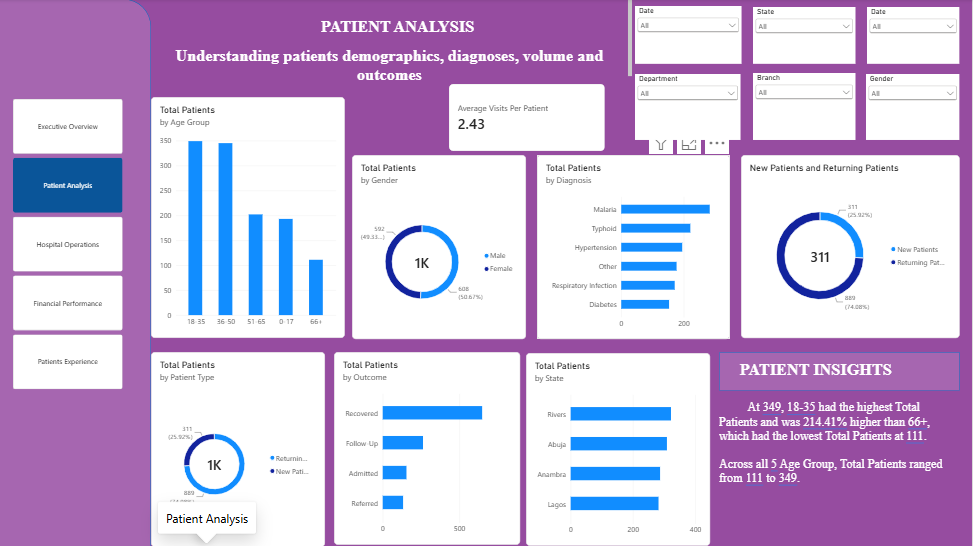

What the dashboard file says about the page in this screenshot:
{"tool":"powerbi","page":{"name":"Patient Analysis","canvas":[1920,1080],"ordinal":1},"visuals":[{"type":"textbox","box":[301.5,0,948,167.5],"z":0},{"type":"clusteredColumnChart","fields":{"Category":["Patient_Visits.Age Group"],"Y":["Date_Table.Total Patients"]},"box":[301.4,194.1,381.9,474.8],"z":1000},{"type":"donutChart","fields":{"Category":["Patient_Visits.Gender"],"Y":["Date_Table.Total Patients"]},"box":[697.8,307.6,342.7,363.4],"z":2000},{"type":"clusteredBarChart","fields":{"Category":["Patient_Visits.Diagnosis"],"Y":["Date_Table.Total Patients"]},"box":[1063.2,307.6,379.9,363.4],"z":3000},{"type":"clusteredBarChart","fields":{"Category":["Patient_Visits.State"],"Y":["Date_Table.Total Patients"]},"box":[1040.5,697.8,362.6,380.4],"z":4000},{"type":"donutChart","fields":{"Y":["Date_Table.New Patients","Date_Table.Returning Patients"]},"box":[1463.7,307.6,431.5,361.3],"z":5000},{"type":"donutChart","fields":{"Category":["Patient_Visits.Patient Type"],"Y":["Date_Table.Total Patients"]},"box":[301.4,695.7,342.7,384],"z":6000},{"type":"cardVisual","fields":{"Data":["Date_Table.Average Visits Per Patient"]},"box":[889.8,167.2,307.6,132.1],"z":7000},{"type":"clusteredBarChart","fields":{"Category":["Patient_Visits.Outcome"],"Y":["Date_Table.Total Patients"]},"box":[662.7,695.7,366.6,380.4],"z":8000},{"type":"slicer","fields":{"Values":["Date_Table.Date"]},"box":[1712,16,182,112],"z":9000},{"type":"slicer","fields":{"Values":["Patient_Visits.State"]},"box":[1488,16,202,112],"z":10000},{"type":"slicer","fields":{"Values":["Date_Table.Date"]},"box":[1256,14,210,114],"z":11000},{"type":"slicer","fields":{"Values":["Patient_Visits.Branch"]},"box":[1488,146,202,132],"z":12000},{"type":"slicer","fields":{"Values":["Patient_Visits.Department"]},"box":[1256,148,208,130],"z":13000},{"type":"slicer","fields":{"Values":["Patient_Visits.Gender"]},"box":[1710,148,184,130],"z":14000},{"type":"pageNavigator","box":[13.8,368.5,258.2,599.1],"z":15000},{"type":"shape","box":[0,0,301.5,1080],"z":16000},{"type":"pageNavigator","box":[28.9,196.1,216.8,576],"z":17000},{"type":"shape","box":[1420.4,695.7,474.8,76.4],"z":18000},{"type":"textbox","box":[1420.4,772.1,474.8,68.1],"z":19000},{"type":"textbox","box":[1443.1,712.3,423.2,45.4],"z":20000},{"type":"textbox","box":[1420,772,476,262],"z":21000}]}

Visuals, with their boxes on the page's 1920x1080 design canvas (x1, y1, x2, y2). These are canvas units, not pixel positions in the 973x546 screenshot, which may show the page scaled, cropped or inside an application window:
textbox: [302, 0, 1250, 168]
clusteredColumnChart - Patient_Visits.Age Group x Date_Table.Total Patients: [301, 194, 683, 669]
donutChart - Patient_Visits.Gender x Date_Table.Total Patients: [698, 308, 1040, 671]
clusteredBarChart - Patient_Visits.Diagnosis x Date_Table.Total Patients: [1063, 308, 1443, 671]
clusteredBarChart - Patient_Visits.State x Date_Table.Total Patients: [1040, 698, 1403, 1078]
donutChart - Date_Table.New Patients x Date_Table.Returning Patients: [1464, 308, 1895, 669]
donutChart - Patient_Visits.Patient Type x Date_Table.Total Patients: [301, 696, 644, 1080]
cardVisual - Date_Table.Average Visits Per Patient: [890, 167, 1197, 299]
clusteredBarChart - Patient_Visits.Outcome x Date_Table.Total Patients: [663, 696, 1029, 1076]
slicer - Date_Table.Date: [1712, 16, 1894, 128]
slicer - Patient_Visits.State: [1488, 16, 1690, 128]
slicer - Date_Table.Date: [1256, 14, 1466, 128]
slicer - Patient_Visits.Branch: [1488, 146, 1690, 278]
slicer - Patient_Visits.Department: [1256, 148, 1464, 278]
slicer - Patient_Visits.Gender: [1710, 148, 1894, 278]
pageNavigator: [14, 368, 272, 968]
shape: [0, 0, 302, 1080]
pageNavigator: [29, 196, 246, 772]
shape: [1420, 696, 1895, 772]
textbox: [1420, 772, 1895, 840]
textbox: [1443, 712, 1866, 758]
textbox: [1420, 772, 1896, 1034]
